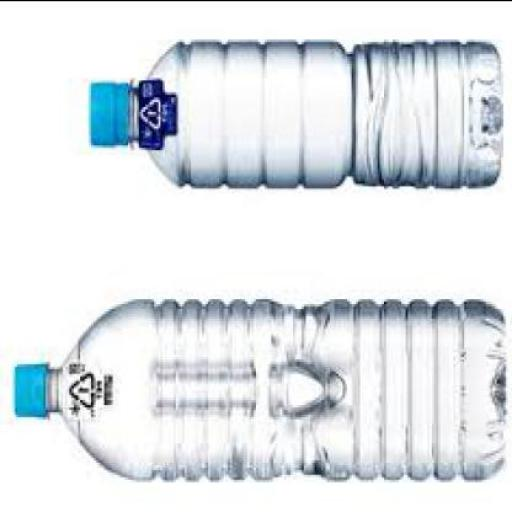plastic: (11, 296, 503, 478), (87, 36, 499, 186), (86, 78, 128, 144), (13, 358, 50, 414)
